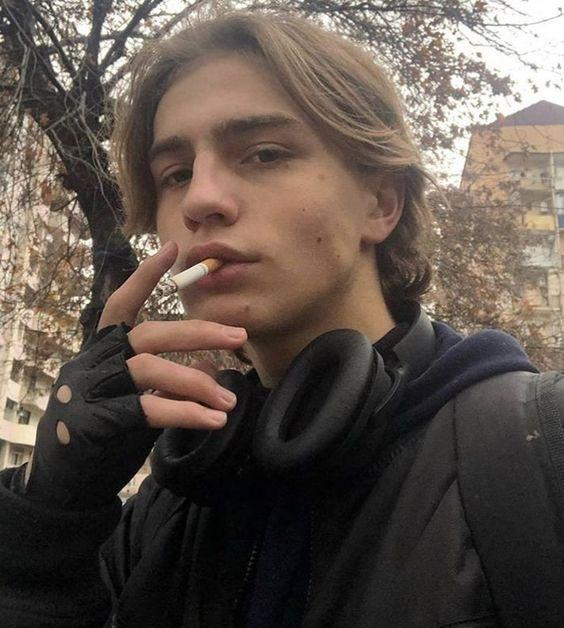cigarette: (155, 257, 226, 297)
